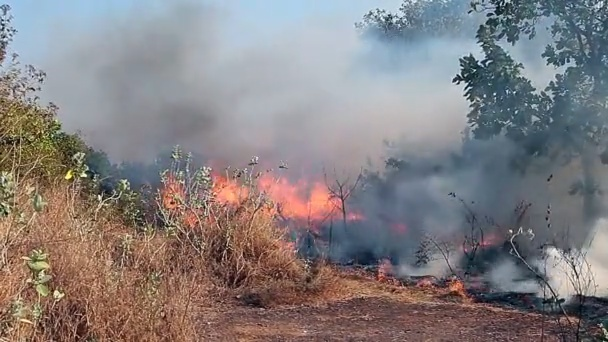fire: (66, 171, 71, 178)
